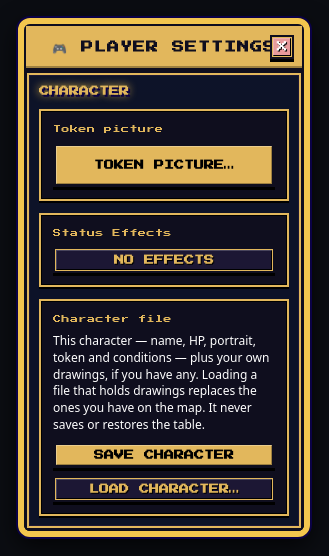
PlayerSettingsMenu › Status Effects Dropdown › displays all 40+ status effects in the dropdown
This screenshot has width=329, height=556.
Click the button "No Effects". click: (164, 260)
box: [53,247,275,273]
(page scrolled)
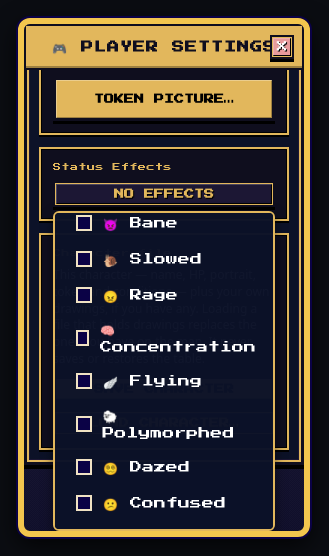
Expected: the checkbox labelled "😠 Rage" is shown, [76,287,92,303]
Expected: the checkbox labelled "🪽 Flying" is shown, [76,373,92,389]
